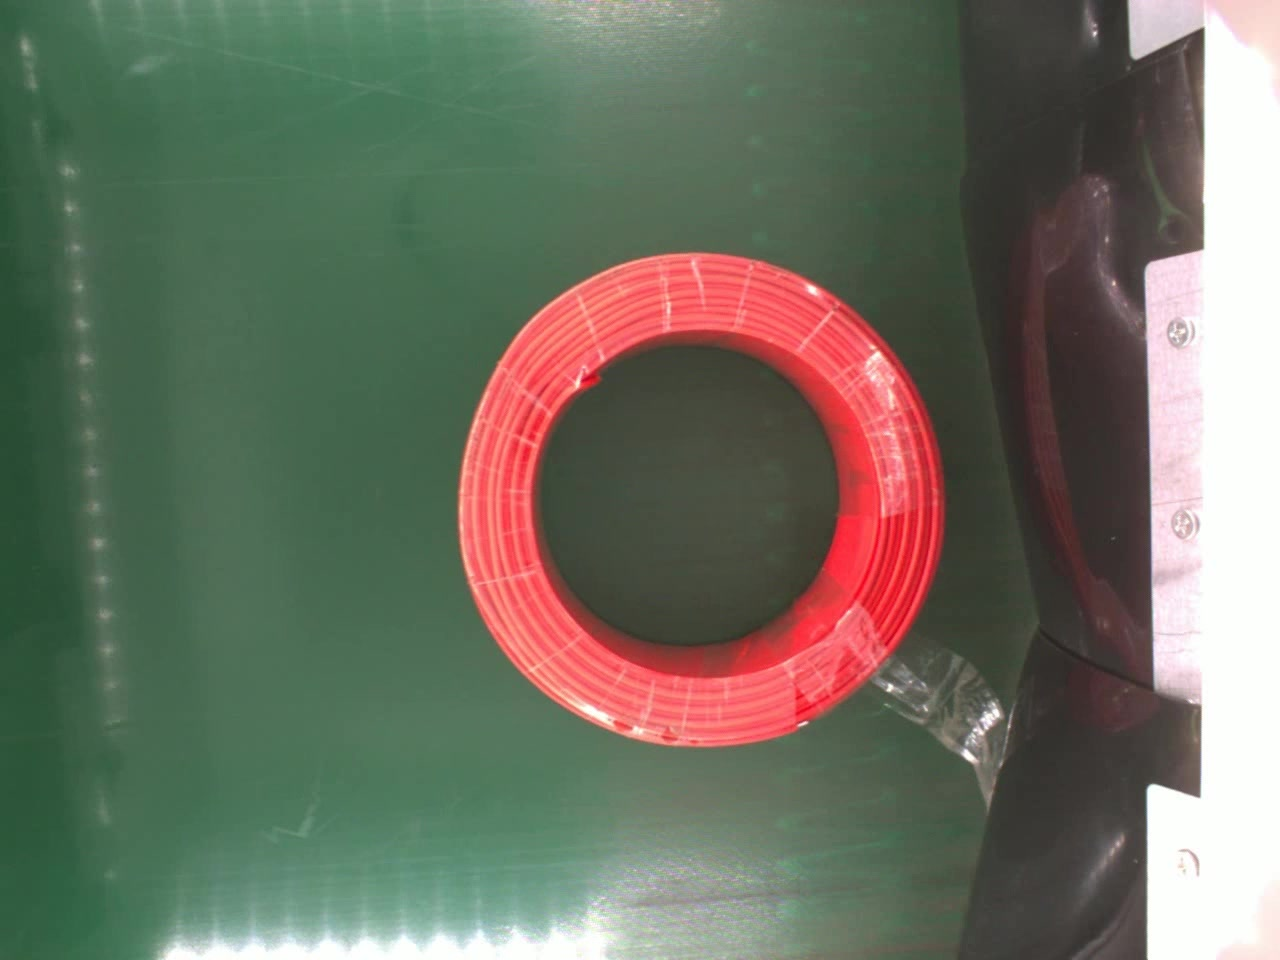red: (454, 248, 949, 753)
